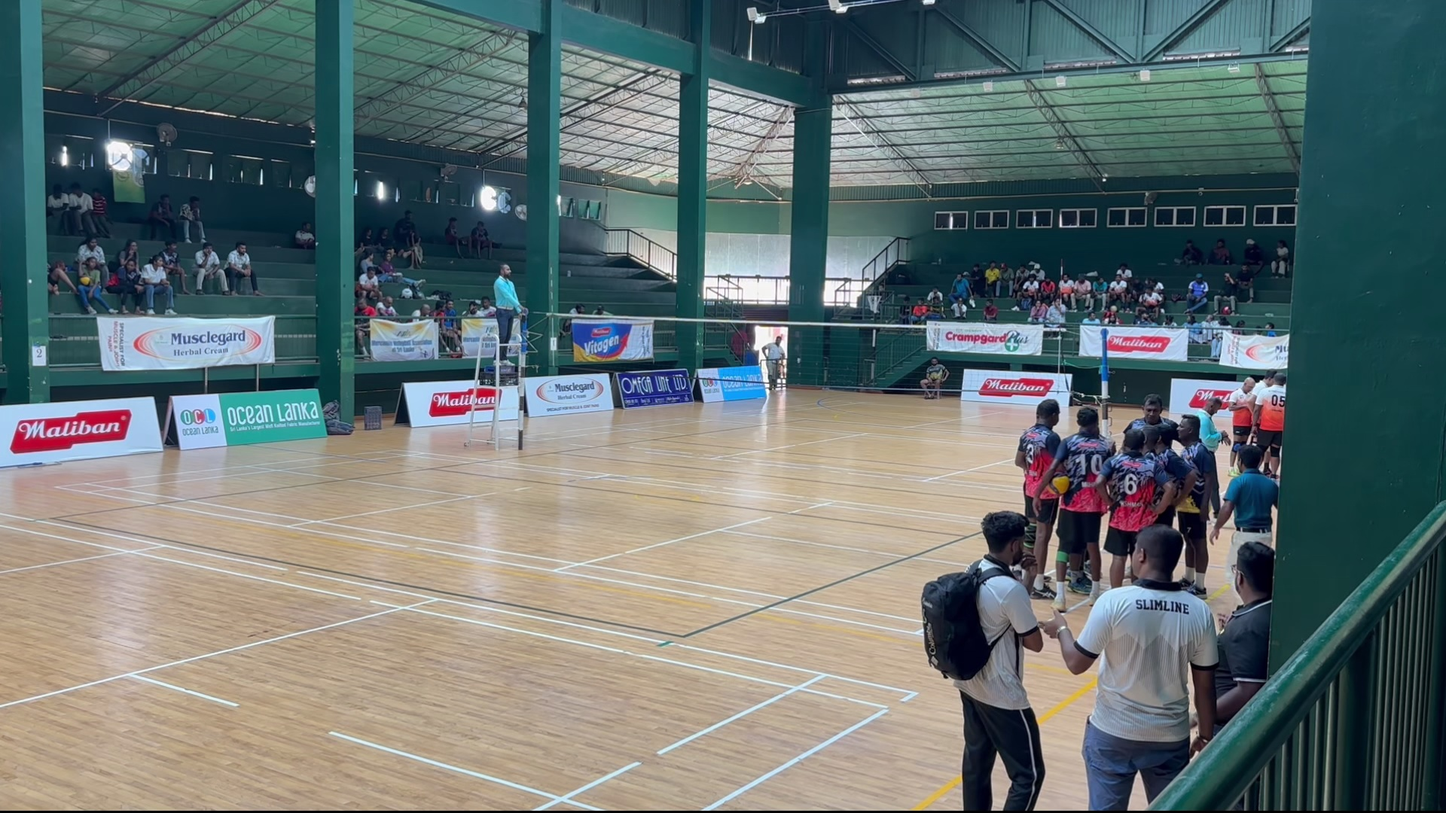Ball: (492, 259, 529, 363)
Payer_B: (1060, 407, 1115, 592), (1025, 403, 1077, 595), (1016, 402, 1068, 589), (1104, 429, 1160, 592)
